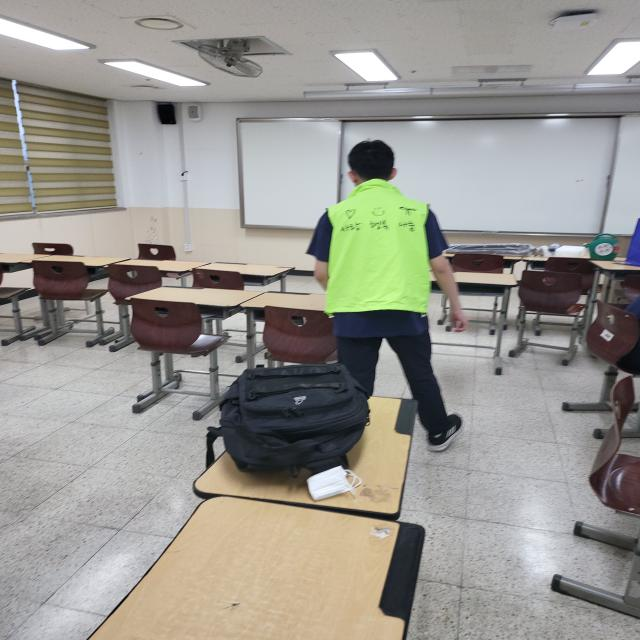weston_spy: (312, 188, 452, 326)
